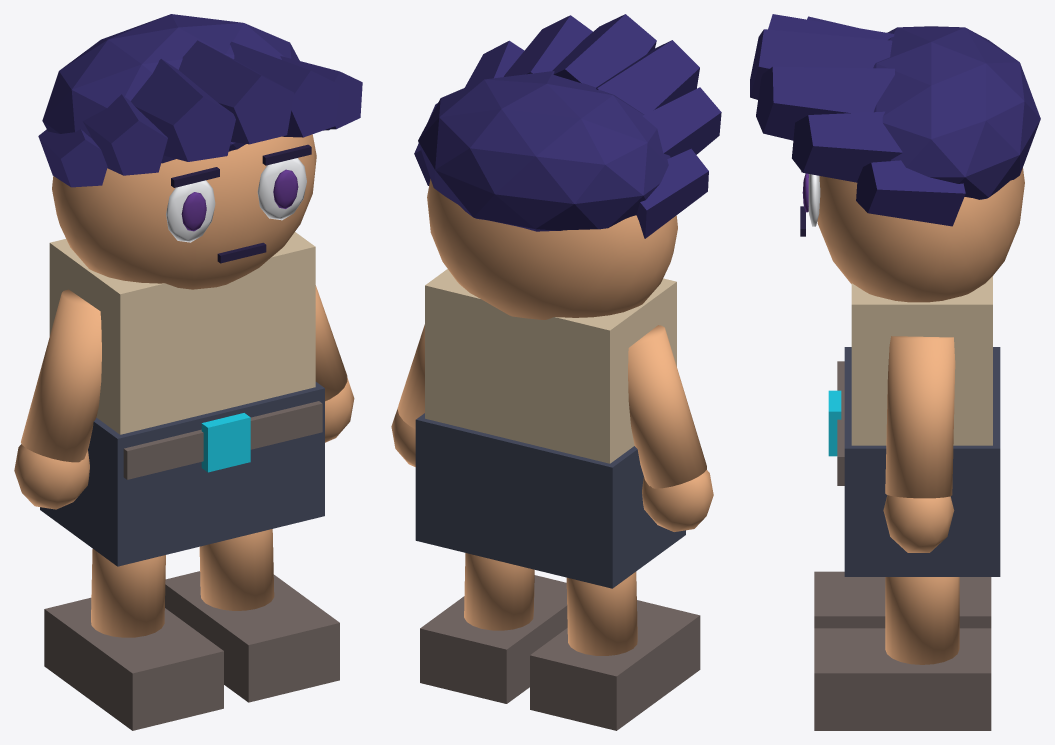
Rendered from model_3d_url_44ca85cf-9e82-47e5-9ce5-06abde1ec0d1_muigjwol.glb.
3 renders of one model, left to right at view 1: azimuth 30°, elevation 25°; view 2: azimuth 150°, elevation 25°; view 3: azimuth 270°, elevation 25°, orthographic. The views are drawn at different scales.
Visible parts, largest first — view 1: Torso, Shorts, Head, Shoe.L, Shoe.R, HairCap, Arm.L, HairSpike.01, HairSpike.02, Leg.L, Leg.R, Belt (+12 smaller); view 2: HairCap, Torso, Shorts, Head, Shoe.L, Shoe.R, Arm.L, Leg.L, Leg.R, HairSpike.01, HairSpike.02, HairSpike.00 (+6 smaller); view 3: HairCap, Head, Shoe.R, Shorts, Torso, Arm.R, HairSpike.03, Leg.R, HairSpike.04, Shoe.L, HairSpike.06, HairSpike.02 (+5 smaller).
Boxes of the visible parts, bbox=[...] form: Torso: bbox=[49, 232, 315, 434]; Shorts: bbox=[40, 382, 324, 566]; Head: bbox=[52, 134, 316, 289]; Shoe.L: bbox=[44, 597, 223, 730]; Shoe.R: bbox=[165, 571, 339, 702]; HairCap: bbox=[42, 14, 299, 163]; Arm.L: bbox=[21, 289, 101, 462]; HairSpike.01: bbox=[131, 59, 235, 161]; HairSpike.02: bbox=[179, 40, 294, 144]; Leg.L: bbox=[91, 549, 165, 637]; Leg.R: bbox=[199, 529, 274, 610]; Belt: bbox=[123, 401, 322, 479]; HairCap: bbox=[418, 71, 670, 231]; Torso: bbox=[425, 269, 676, 463]; Shorts: bbox=[415, 413, 685, 588]; Head: bbox=[427, 179, 677, 319]; Shoe.L: bbox=[530, 600, 700, 730]; Shoe.R: bbox=[420, 575, 567, 703]; Arm.L: bbox=[628, 325, 706, 488]; Leg.L: bbox=[566, 571, 637, 655]; Leg.R: bbox=[464, 553, 534, 630]; HairSpike.01: bbox=[596, 40, 699, 114]; HairSpike.02: bbox=[552, 14, 656, 87]; HairSpike.00: bbox=[643, 87, 721, 157]; HairCap: bbox=[873, 26, 1040, 199]; Head: bbox=[817, 168, 1024, 302]; Shoe.R: bbox=[814, 628, 991, 730]; Shorts: bbox=[844, 347, 1000, 576]; Torso: bbox=[851, 276, 992, 445]; Arm.R: bbox=[885, 336, 955, 498]; HairSpike.03: bbox=[756, 66, 894, 140]; Leg.R: bbox=[885, 577, 959, 664]; HairSpike.04: bbox=[792, 111, 902, 182]; Shoe.L: bbox=[814, 571, 991, 628]; HairSpike.06: bbox=[856, 160, 965, 226]; HairSpike.02: bbox=[750, 29, 892, 99].
Bounding box in the file's own units: 1.08 × 2.03 × 0.8218.
